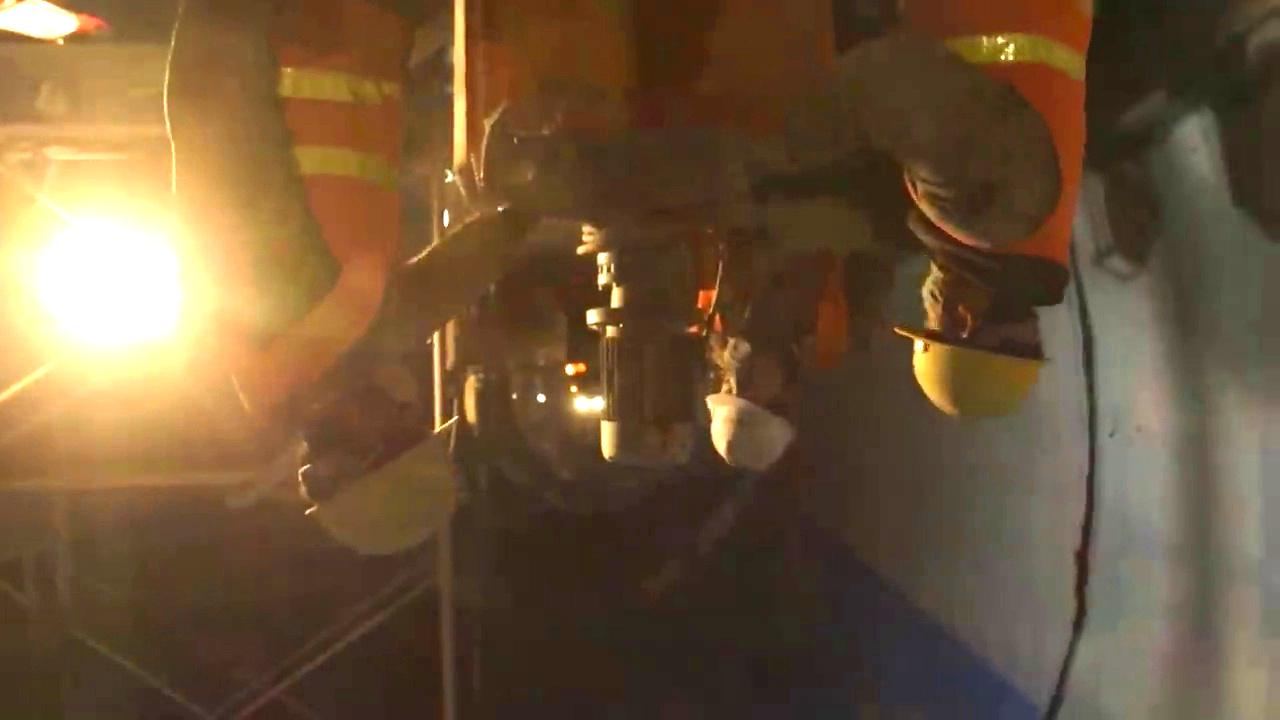helmet: (297, 380, 462, 556), (892, 256, 1052, 426), (703, 350, 799, 473)
